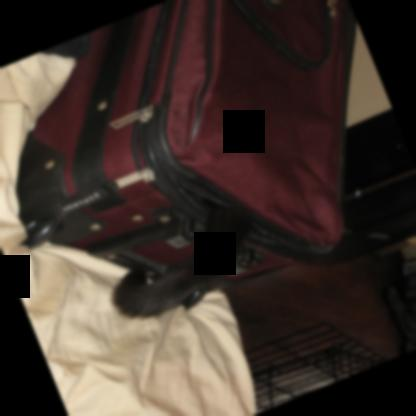suitcase: (14, 0, 355, 317), (318, 108, 416, 263)
